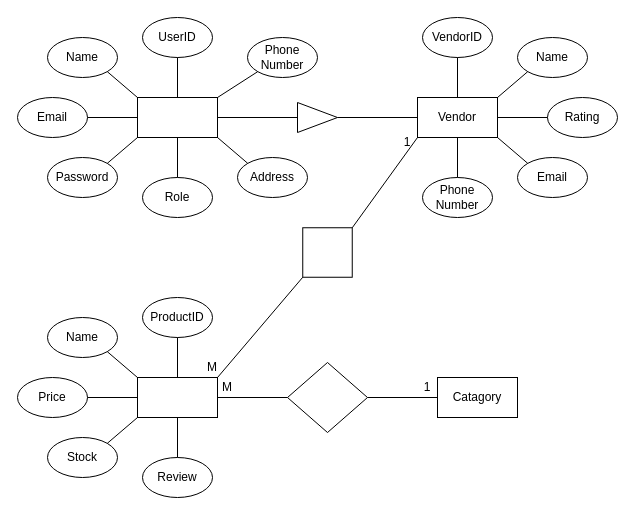
Image size: 635x515. Some labels were removed from this diagram. The shapes that lost their labels are listed below. From the top down, each one's centre as x and y in pixels, then its label:
the point at 177,117: User
the point at 317,117: Isa
the point at 327,252: Sells
the point at 177,397: Product
the point at 327,397: Belongs to
